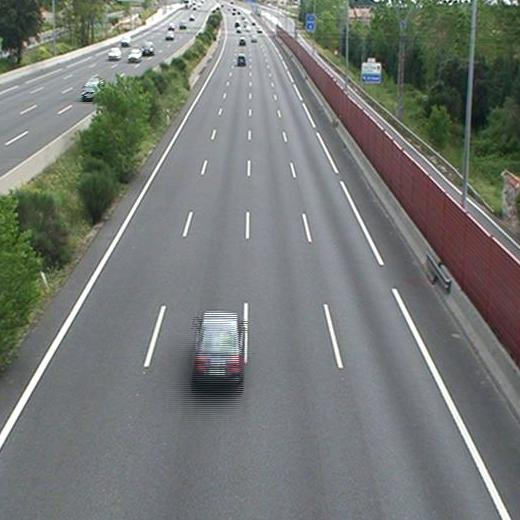car: (194, 313, 242, 379), (236, 55, 245, 65), (239, 38, 247, 46)
